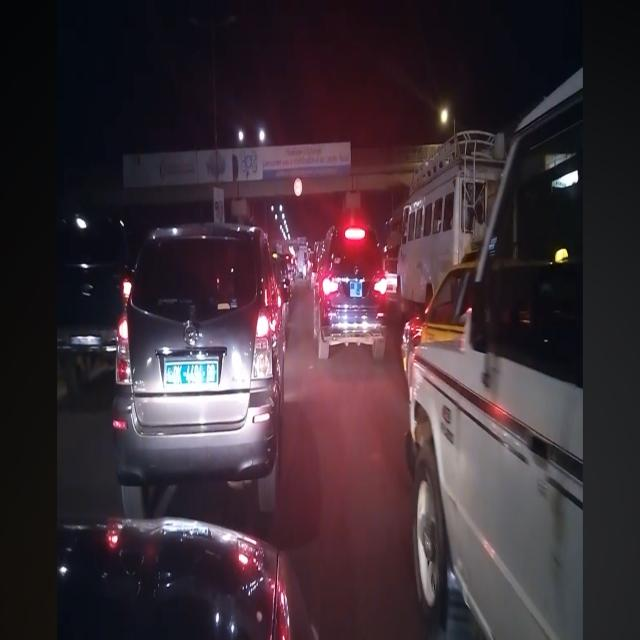ndiaga ndiaye: (399, 131, 506, 307)
particulier: (409, 71, 584, 639), (115, 226, 286, 518), (59, 520, 314, 639), (59, 217, 131, 396), (315, 217, 387, 361)
